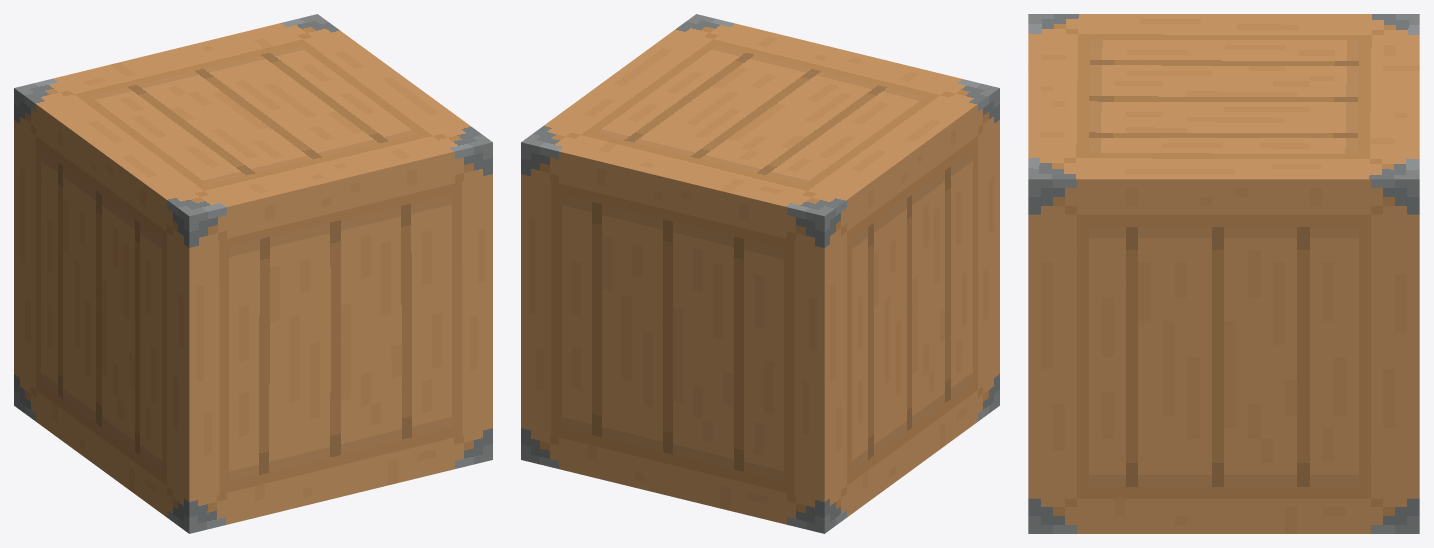
File: crate.glb
3 views of the same model, side by side, from view 1: azimuth 30°, elevation 25°; view 2: azimuth 150°, elevation 25°; view 3: azimuth 270°, elevation 25° (orthographic). The views are drawn at different scales.
Visible parts, largest first — view 1: Cube.005; view 2: Cube.005; view 3: Cube.005.
Part boxes in pixels (box(x1,y1,x2,y2)): Cube.005: box(14, 14, 492, 533); Cube.005: box(521, 14, 999, 533); Cube.005: box(1028, 14, 1419, 533).
Size of the model in its own units: 2 by 2 by 2.
1 material, 1 textured.
